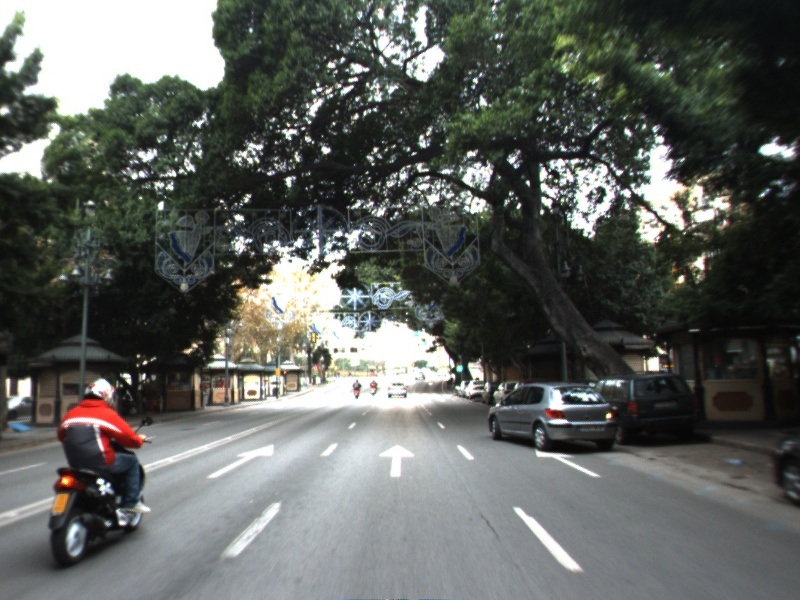STRAIGHT: (204, 443, 276, 480), (533, 446, 603, 479), (377, 442, 418, 479)
